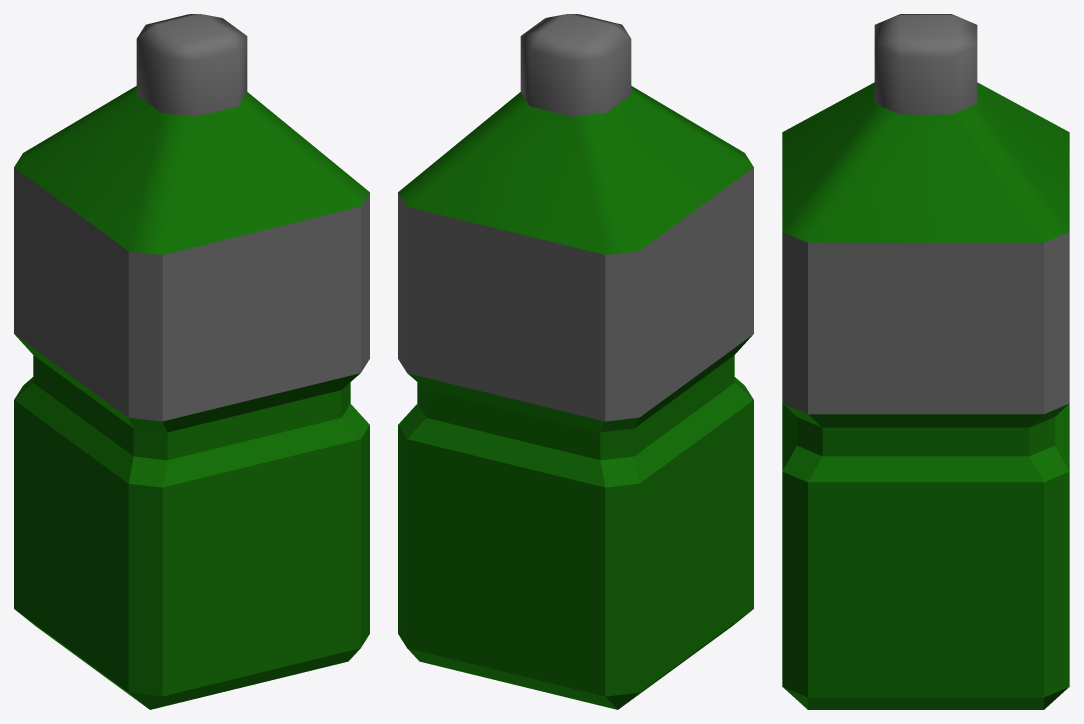
Rendered from Petbottle.fbx.
The picture shows the model from 3 angles, left to right: view 1: azimuth 30°, elevation 25°; view 2: azimuth 150°, elevation 25°; view 3: azimuth 270°, elevation 25°; orthographic projection. The views are drawn at different scales.
Parts seen in each view (by area): view 1: pCube40; view 2: pCube40; view 3: pCube40.
Boxes of the visible parts, box(x1,y1,x2,y2) form: pCube40: box(14, 14, 369, 709); pCube40: box(398, 14, 753, 709); pCube40: box(782, 14, 1069, 709).
Bounding box in the file's own units: 0.00684 × 0.0167 × 0.00684.
